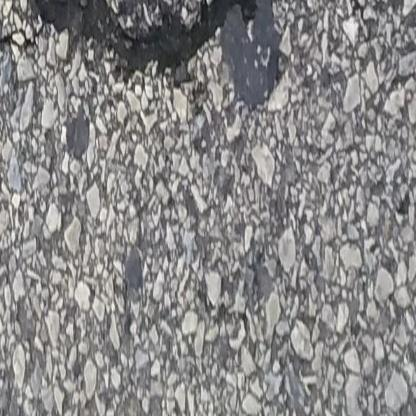Cracks: (0, 0, 289, 79)
